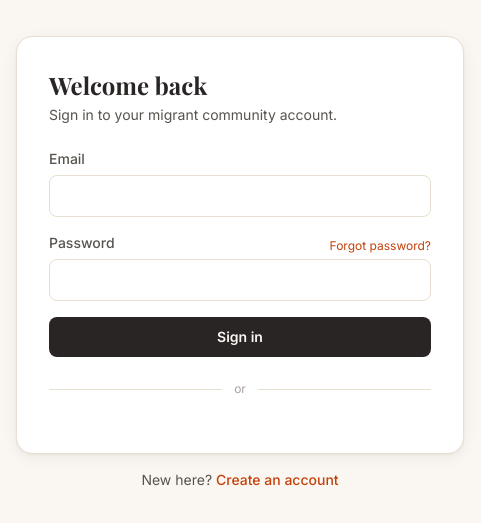
Test: LoginPage › rejects empty submission with field errors
Click the button "Sign in" at (240, 337), box left=49, top=317, right=431, bottom=357
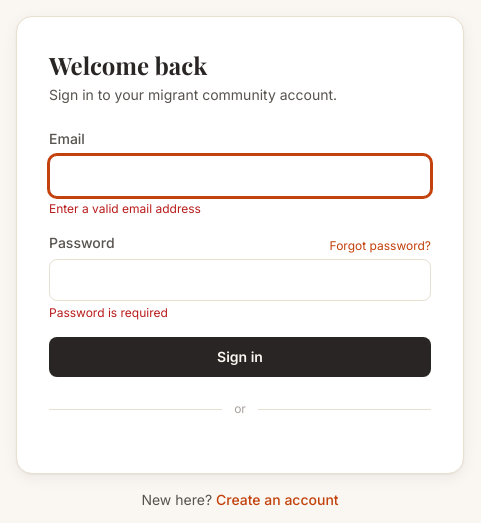
Result: the text "Password is required" is shown at left=49, top=305, right=168, bottom=320
